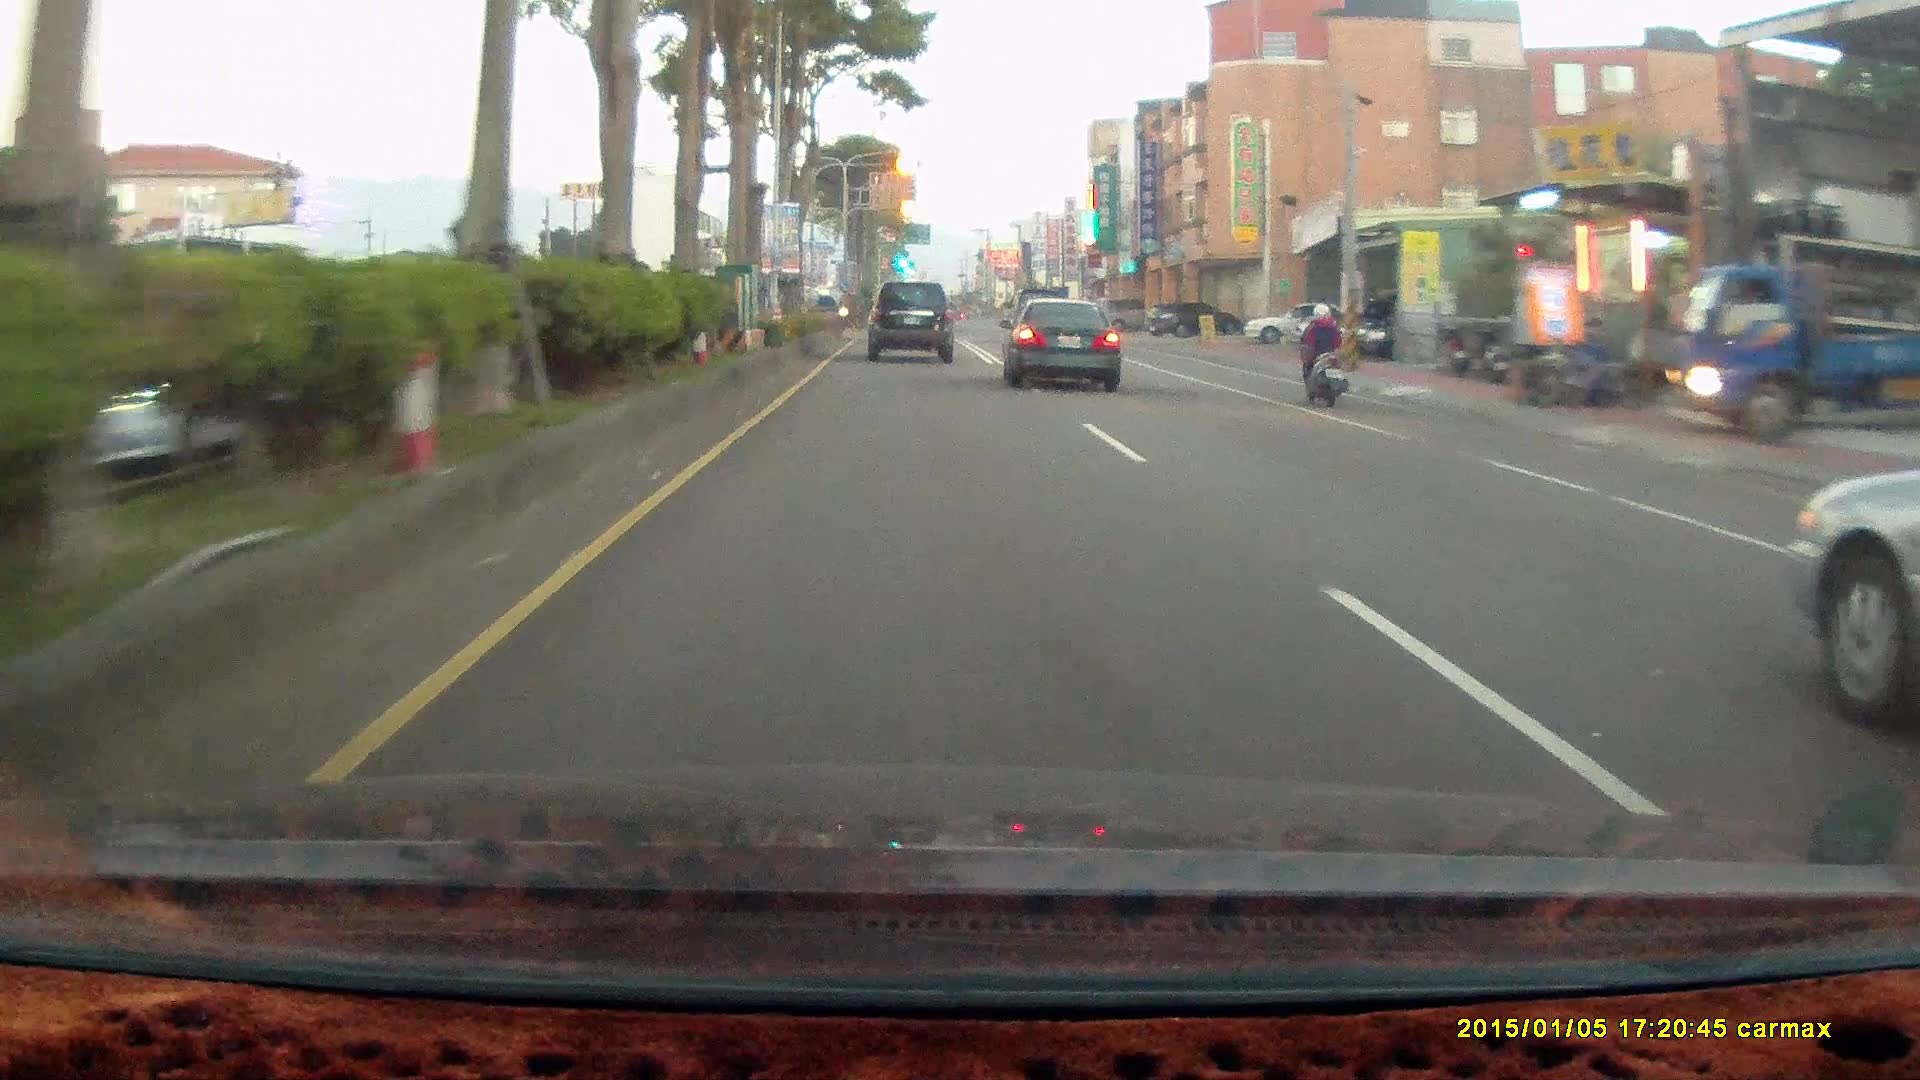rider: (1288, 294, 1359, 414), (1290, 300, 1349, 405)
vehicle: (1670, 250, 1920, 437), (1669, 259, 1920, 437), (1783, 442, 1920, 747), (1776, 445, 1918, 740), (1005, 296, 1128, 393), (1000, 294, 1124, 388), (1353, 298, 1472, 360), (871, 279, 957, 365), (866, 279, 951, 362), (1244, 299, 1363, 344), (1148, 300, 1238, 336), (1096, 294, 1166, 330)
